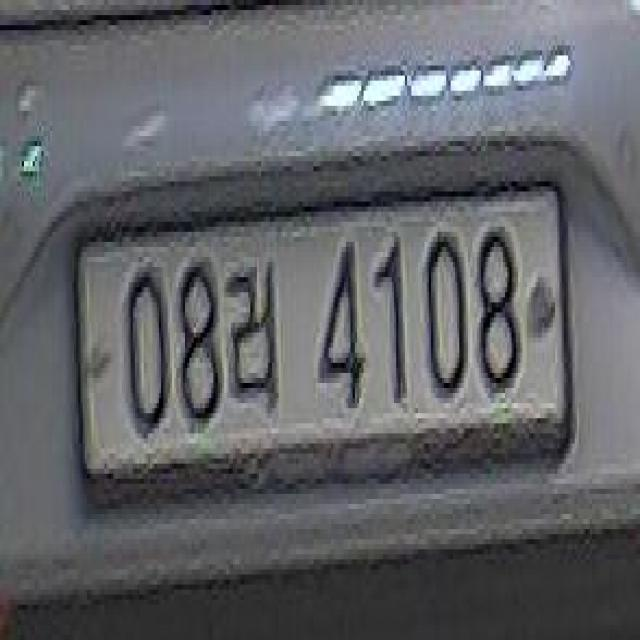illegal_plate: (76, 173, 572, 509)
